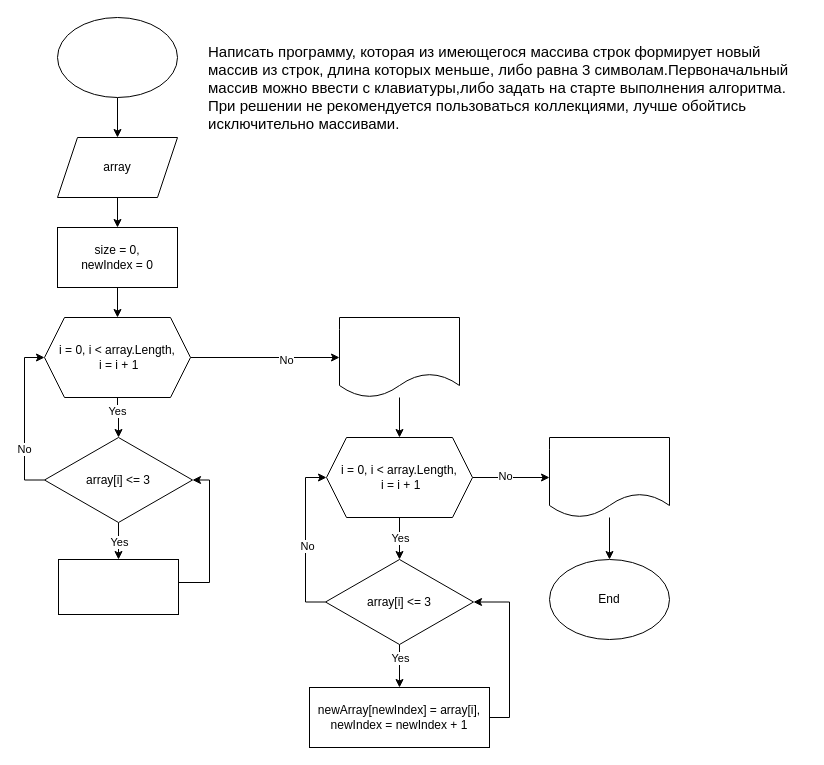
Image size: 824x765. Some labels were removed from this diagram. Each missing label, with the centre of its shape:
newArray: pixel 609 477
size = size + 1: pixel 118 586
size, newArray[size]: pixel 399 357
Start: pixel 117 57
